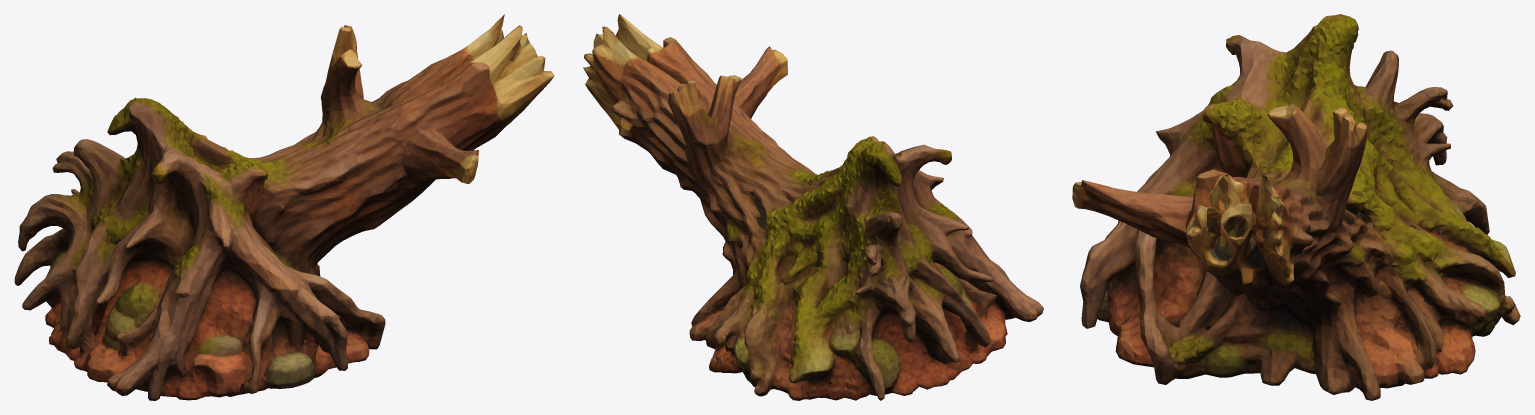
3 views of the same model, side by side, from view 1: azimuth 30°, elevation 25°; view 2: azimuth 150°, elevation 25°; view 3: azimuth 270°, elevation 25° (orthographic). The views are drawn at different scales.
Parts seen in each view (by area): view 1: world; view 2: world; view 3: world.
Part boxes in pixels (bbox=[...]): world: bbox=[14, 14, 554, 400]; world: bbox=[583, 14, 1043, 400]; world: bbox=[1072, 14, 1520, 400].
Size of the model in its own units: 1 by 0.5668 by 0.7284.
1 material, 1 textured.
